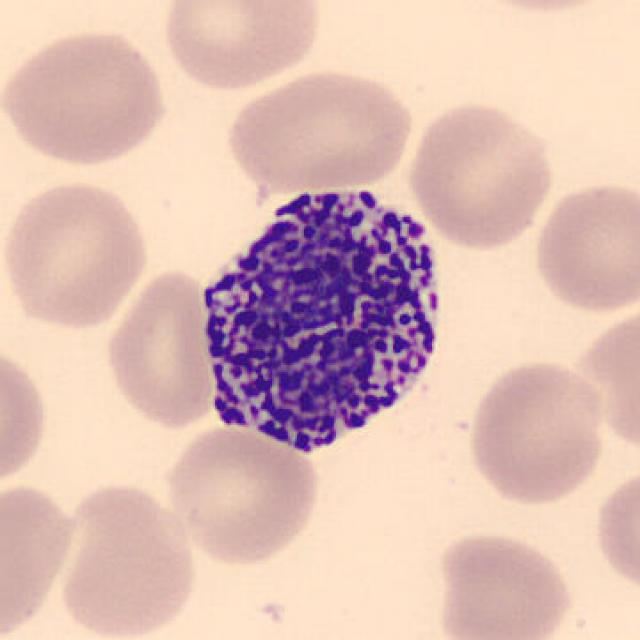Basophil: (186, 166, 458, 469)
RBC: (218, 65, 418, 194), (0, 22, 172, 169), (160, 420, 325, 568), (0, 175, 153, 333), (53, 478, 201, 640), (404, 97, 558, 252), (464, 354, 610, 510), (100, 263, 220, 432), (430, 527, 576, 640), (156, 0, 327, 93), (528, 176, 638, 318), (0, 476, 80, 638), (0, 337, 52, 495), (590, 462, 638, 599), (453, 0, 628, 16)
